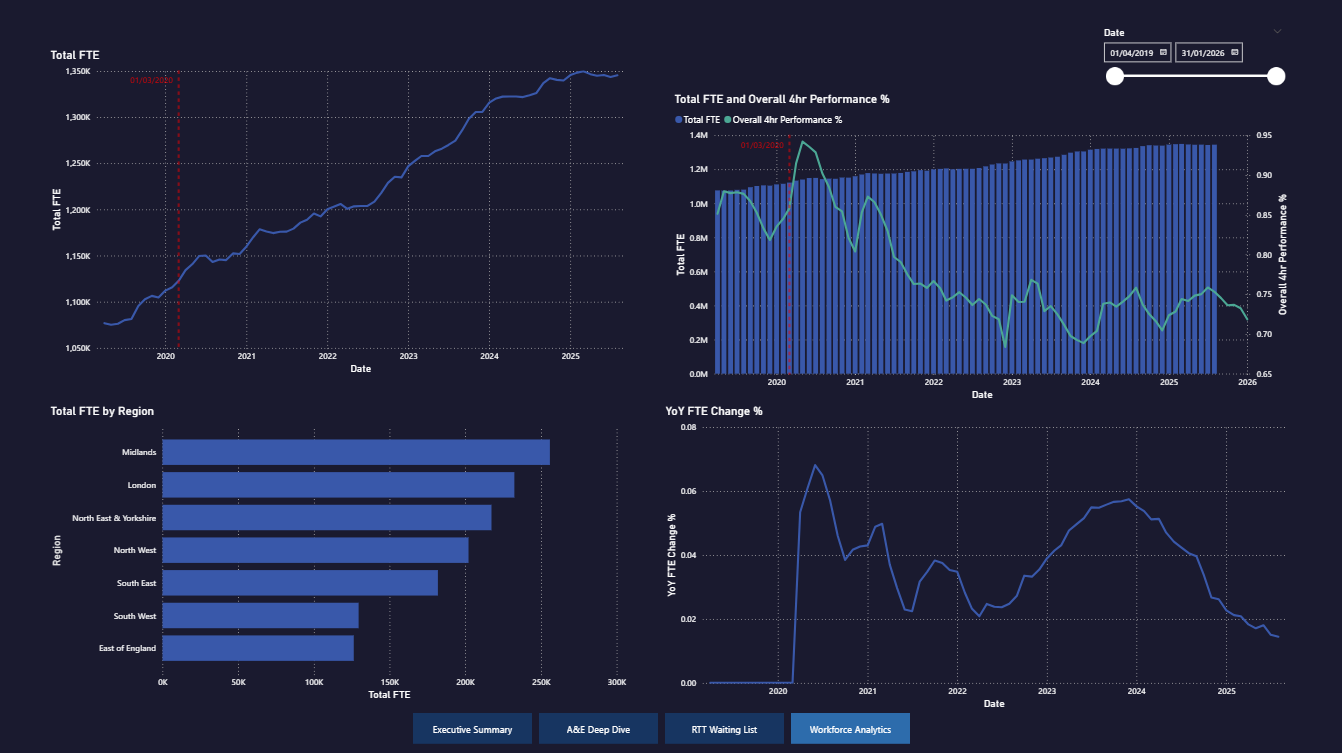

The dashboard page shown, as its layout file describes it:
{"tool":"powerbi","page":{"name":"Workforce Analytics","canvas":[1920,1080],"ordinal":3},"visuals":[{"type":"lineChart","title":"Total FTE ","fields":{"Y":["_Measures.Total FTE"],"Category":["workforce_clean.period"]},"box":[68.6,68.6,832.9,471.4],"z":0},{"type":"clusteredBarChart","fields":{"Category":["workforce_clean.clean_region"],"Y":["_Measures.Total FTE"]},"box":[68.6,577.1,832.9,428.6],"z":1000},{"type":"lineClusteredColumnComboChart","title":"Total FTE and Overall 4hr Performance %","fields":{"Y":["_Measures.Total FTE"],"Y2":["_Measures.Overall 4hr Performance %"],"Category":["PeriodTable.Period"]},"box":[960,131.4,885.7,445.7],"z":2000},{"type":"lineChart","title":"YoY FTE Change % ","fields":{"Y":["_Measures.YoY FTE Change %"],"Category":["workforce_clean.period"]},"box":[947.1,577.1,898.6,441.4],"z":3000},{"type":"slicer","fields":{"Values":["dim_date.Date"]},"box":[1565.7,32.9,280,162.9],"z":4000},{"type":"pageNavigator","box":[591.4,1018.6,710,44.3],"z":5000}]}

Visuals, with their boxes in screenshot pixels (x1, y1, x2, y2), scaled from the page's 1920x1080 canvas onto the 1342x753 screenshot:
"Total FTE " lineChart: [48, 48, 630, 376]
clusteredBarChart - workforce_clean.clean_region x _Measures.Total FTE: [48, 402, 630, 701]
"Total FTE and Overall 4hr Performance %" lineClusteredColumnComboChart: [671, 92, 1290, 402]
"YoY FTE Change % " lineChart: [662, 402, 1290, 710]
slicer - dim_date.Date: [1094, 23, 1290, 137]
pageNavigator: [413, 710, 910, 741]
